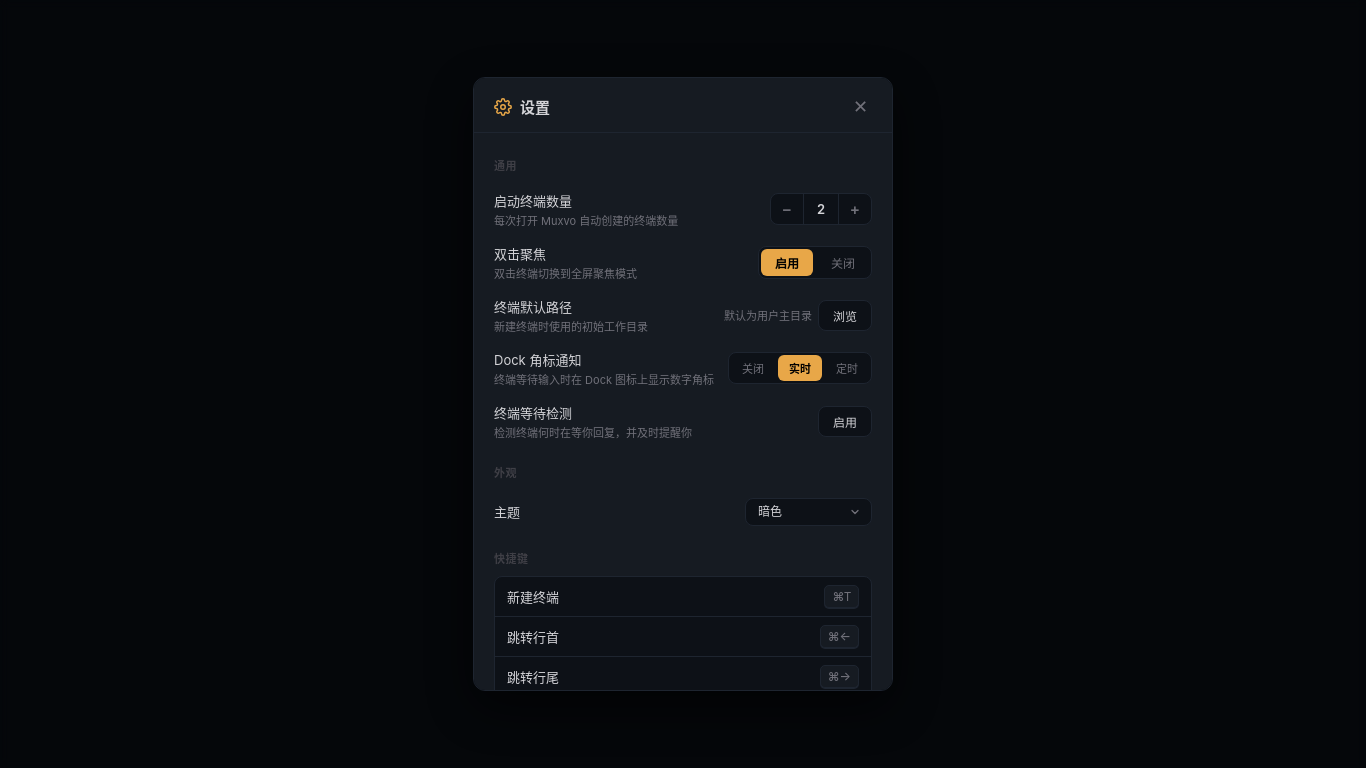
Test: 终端等待检测行（wait-detector.md §7 单绑定入口 + §7 用户面归一） › WD_panel_enable_delegate：点「启用」→ 委托 {kind:hookEnable}；响应 installed → 行转已启用+停用钮
The width and height of the screenshot is (1366, 768).
Click the button with class "settings-modal__hook-btn" at (845, 421), box [818,406,872,437]
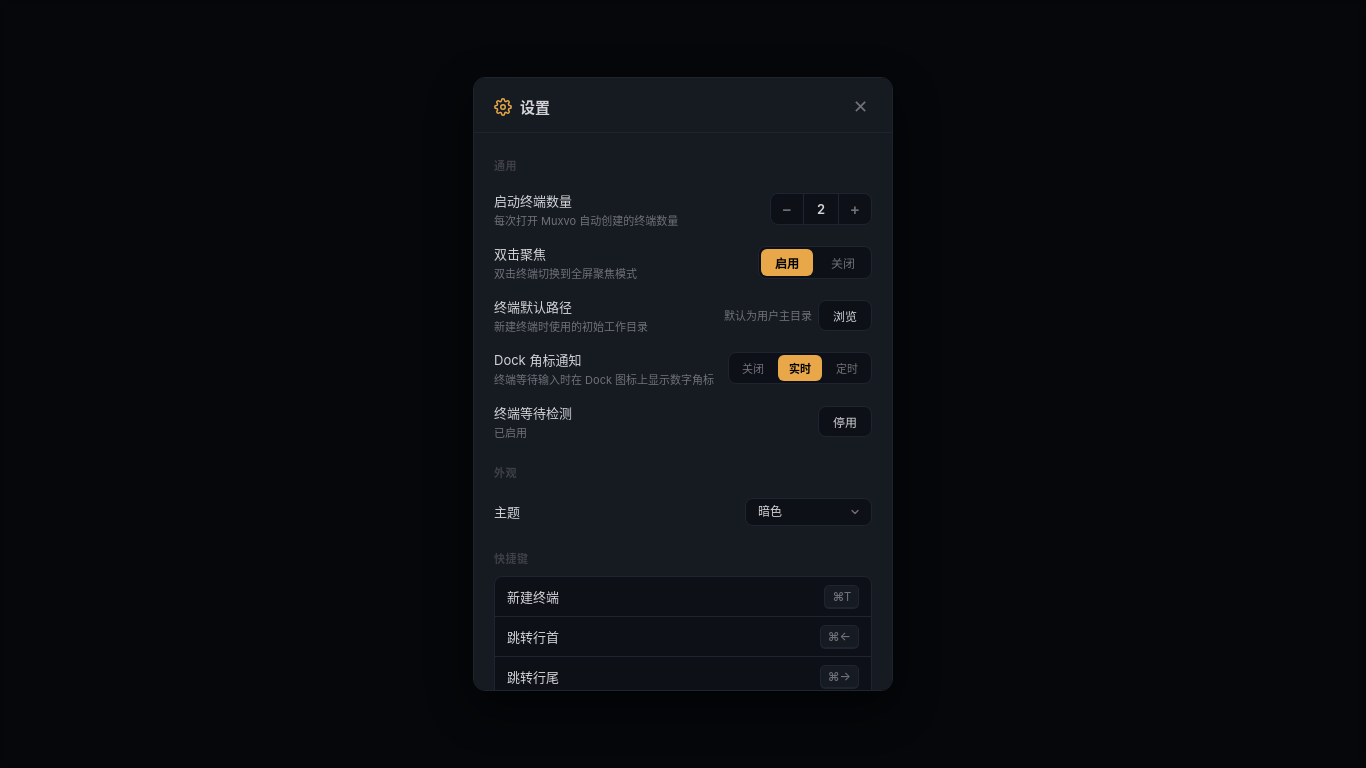
Expected: the button with class "settings-modal__hook-btn" reads "停用", [818,406,872,437]
Expected: the text "已启用" is shown, [494,426,527,440]
